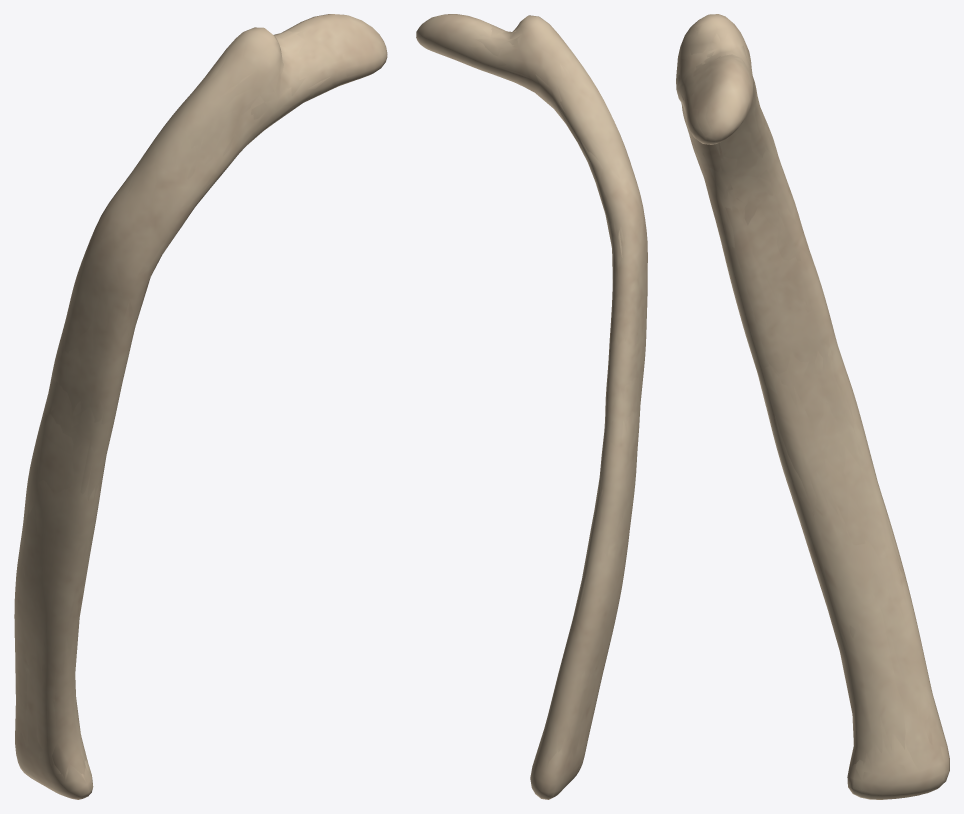
Rendered from Rib R03.fbx.
3 views of the same model, side by side, from view 1: azimuth 30°, elevation 25°; view 2: azimuth 150°, elevation 25°; view 3: azimuth 270°, elevation 25° (orthographic). The views are drawn at different scales.
Parts seen in each view (by area): view 1: Rib R03 high, Rib R03, Rib R03 low; view 2: Rib R03 high, Rib R03, Rib R03 low; view 3: Rib R03, Rib R03 low, Rib R03 high.
Part boxes in pixels (bbox=[...]): Rib R03 high: bbox=[14, 14, 387, 798]; Rib R03: bbox=[15, 14, 387, 799]; Rib R03 low: bbox=[15, 30, 340, 778]; Rib R03 high: bbox=[417, 14, 647, 799]; Rib R03: bbox=[416, 14, 647, 799]; Rib R03 low: bbox=[475, 26, 629, 758]; Rib R03: bbox=[676, 14, 949, 799]; Rib R03 low: bbox=[678, 30, 941, 767]; Rib R03 high: bbox=[676, 14, 949, 799].
Bounding box in the file's own units: 7.24 × 18.67 × 5.54.
Materials: 1 (1 with a texture image).
